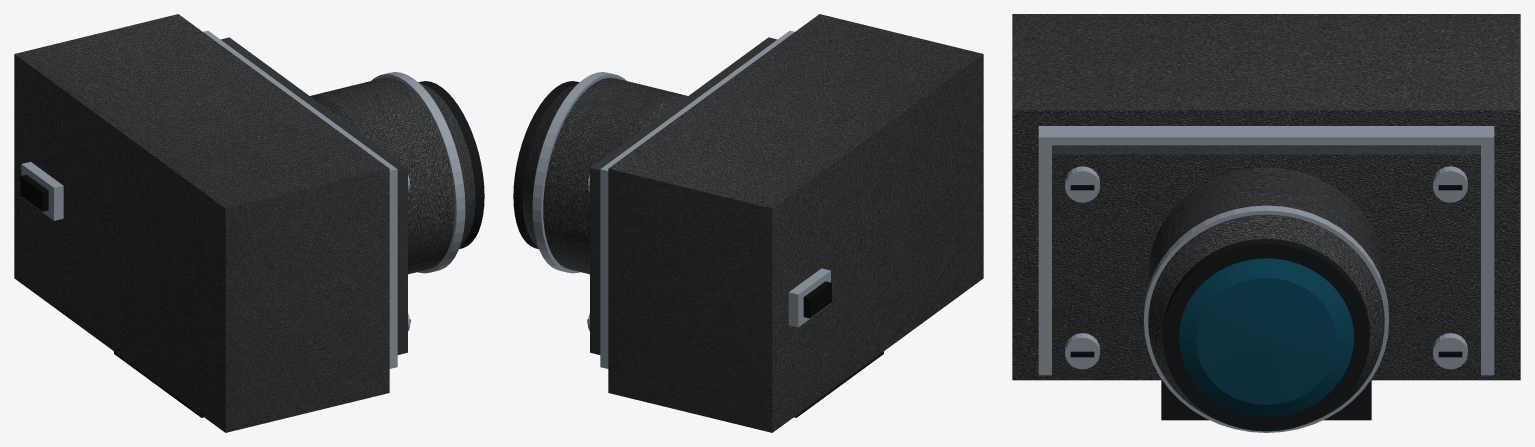
The model's file is camera_link.dae.
3 renders of one model, left to right at view 1: azimuth 30°, elevation 25°; view 2: azimuth 150°, elevation 25°; view 3: azimuth 270°, elevation 25°, orthographic. The views are drawn at different scales.
Parts seen in each view (by area): view 1: camera_link_black, camera_link_metal, camera_link_rubber, camera_link_chip; view 2: camera_link_black, camera_link_metal, camera_link_rubber, camera_link_chip; view 3: camera_link_black, camera_link_metal, camera_link_lens, camera_link_rubber, camera_link_chip.
Boxes of the visible parts, x1,y1,x2,y2 form: camera_link_black: (14,14,475,432); camera_link_metal: (21,30,465,368); camera_link_rubber: (114,81,484,417); camera_link_chip: (20,174,410,322); camera_link_black: (522,14,983,432); camera_link_metal: (532,30,830,368); camera_link_rubber: (513,81,883,417); camera_link_chip: (587,181,831,322); camera_link_black: (1012,14,1520,421); camera_link_metal: (1038,126,1494,432); camera_link_lens: (1179,258,1353,416); camera_link_rubber: (1161,238,1371,431); camera_link_chip: (1070,185,1462,357).
Bounding box in the file's own units: 0.055 × 0.058 × 0.04.
5 materials, 1 textured.
